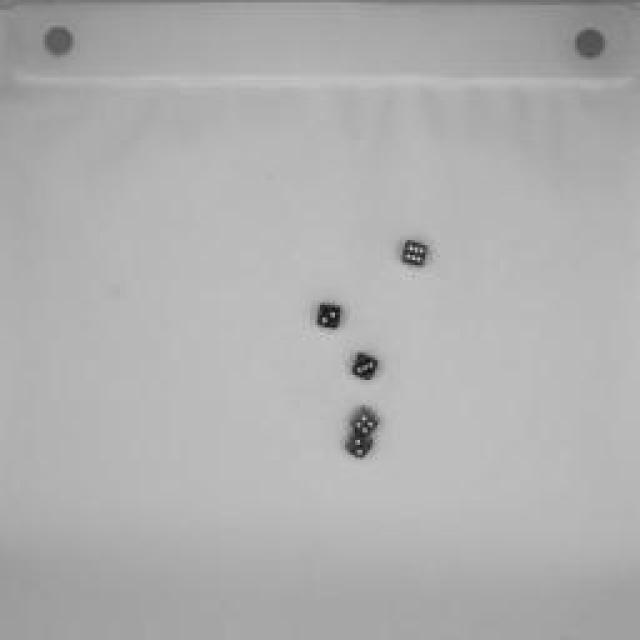dice_2: (308, 300, 348, 335), (341, 430, 374, 460)
dice_3: (348, 348, 382, 382)
dice_4: (348, 408, 382, 438)
dice_6: (395, 235, 430, 270)
